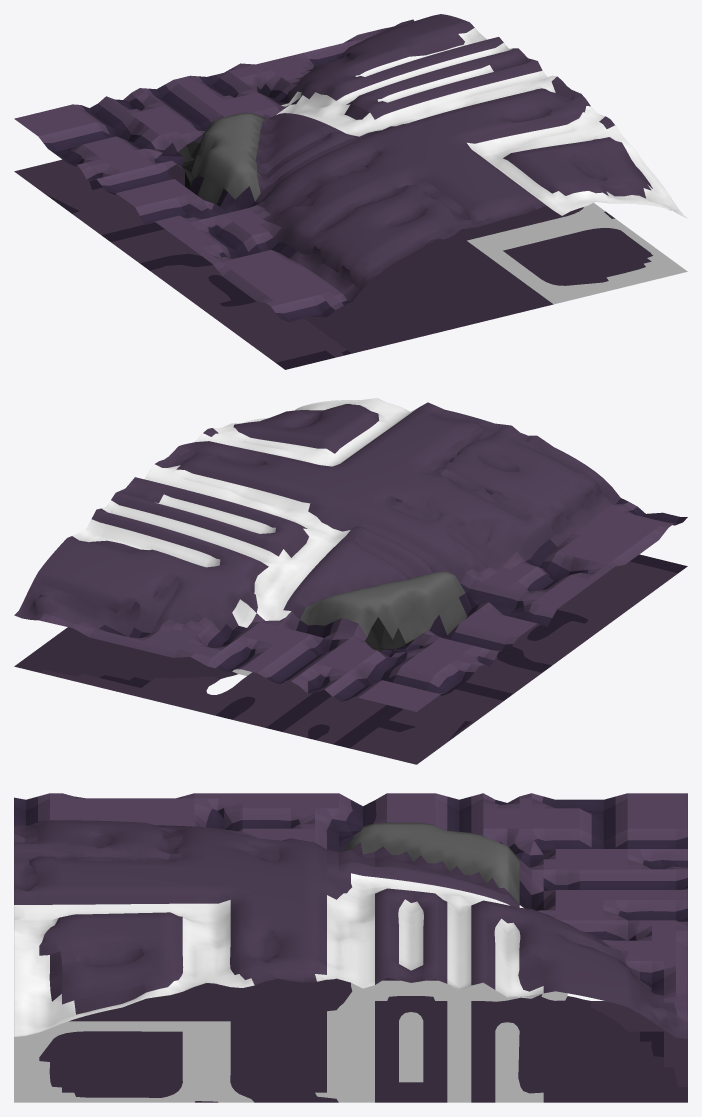
Rendered from delbld-hull-564.glb.
The picture shows the model from 3 angles, top to bottom: view 1: azimuth 30°, elevation 25°; view 2: azimuth 150°, elevation 25°; view 3: azimuth 270°, elevation 25°; orthographic projection. The views are drawn at different scales.
Parts seen in each view (by area): view 1: delbld-hull-564; view 2: delbld-hull-564; view 3: delbld-hull-564.
Boxes of the visible parts, x1,y1,x2,y2 form: delbld-hull-564: [14, 14, 687, 369]; delbld-hull-564: [14, 398, 687, 764]; delbld-hull-564: [14, 793, 687, 1102].
Size of the model in its own units: 2 by 0.4799 by 2.33.
6 materials, 6 textured.
